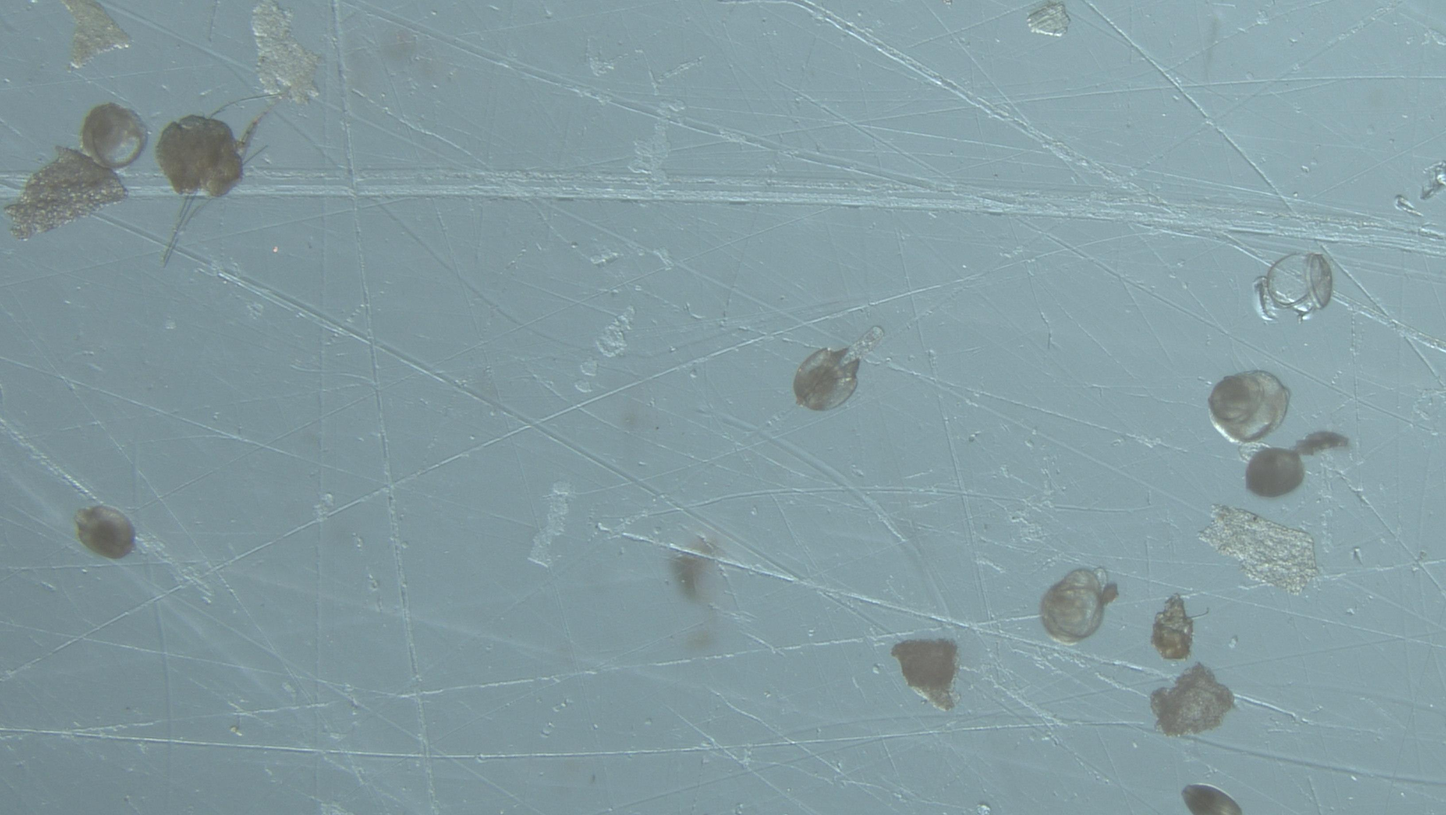dead: (1255, 252, 1334, 321)
live: (793, 326, 884, 412), (1208, 371, 1291, 444), (1041, 568, 1118, 644), (81, 103, 148, 170), (74, 505, 136, 560), (1246, 448, 1306, 498), (1182, 784, 1243, 815)
